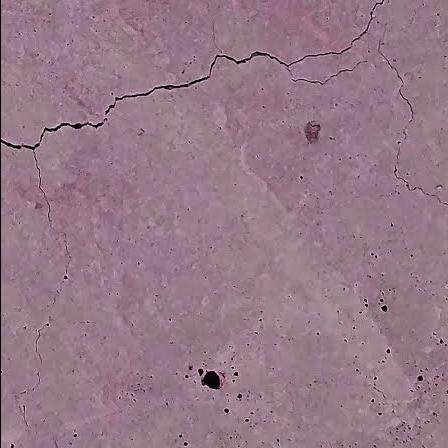crack: (93, 0, 397, 117), (344, 20, 448, 222), (26, 148, 79, 307), (2, 310, 63, 432), (0, 107, 110, 159)
hole: (200, 370, 220, 391)
